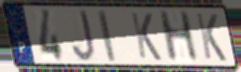4: (38, 8, 63, 63)
H: (156, 9, 201, 64)
I: (96, 8, 118, 64)
J: (71, 9, 97, 63)
K: (194, 11, 229, 63), (129, 10, 164, 62)
